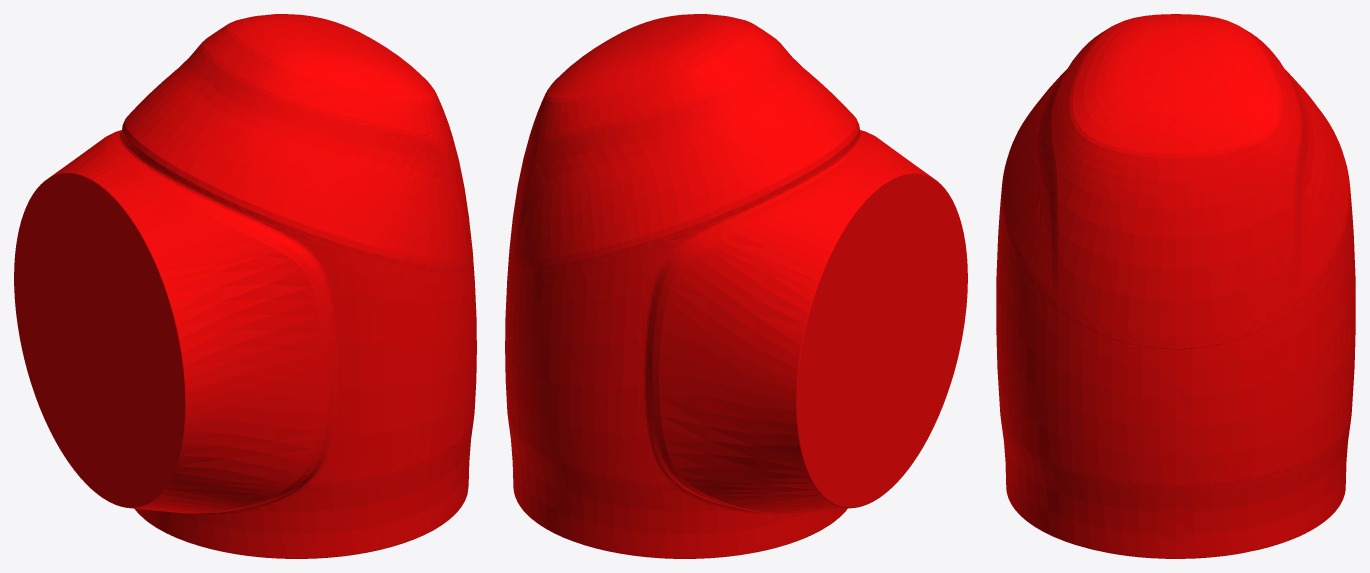
The picture shows the model from 3 angles, left to right: view 1: azimuth 30°, elevation 25°; view 2: azimuth 150°, elevation 25°; view 3: azimuth 270°, elevation 25°; orthographic projection.
Parts seen in each view (by area): view 1: H2515_2_2; view 2: H2515_2_2; view 3: H2515_2_2.
Part boxes in pixels (left/top/right/bottom): H2515_2_2: left=14, top=14, right=476, bottom=558; H2515_2_2: left=505, top=14, right=967, bottom=558; H2515_2_2: left=996, top=14, right=1355, bottom=558.
Bounding box in the file's own units: 182 × 162 × 225.
